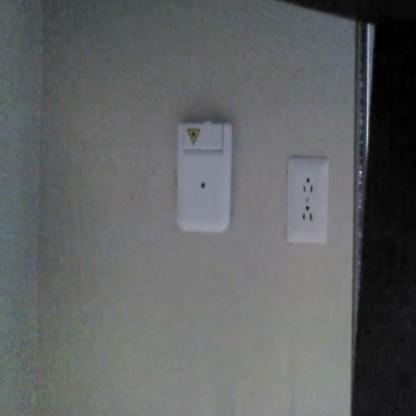OUTLET: (285, 161, 331, 243)
